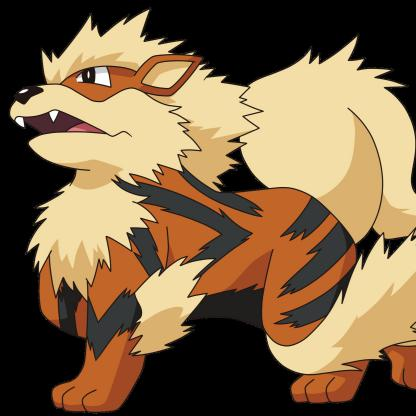Arcanine: (8, 21, 416, 416)
